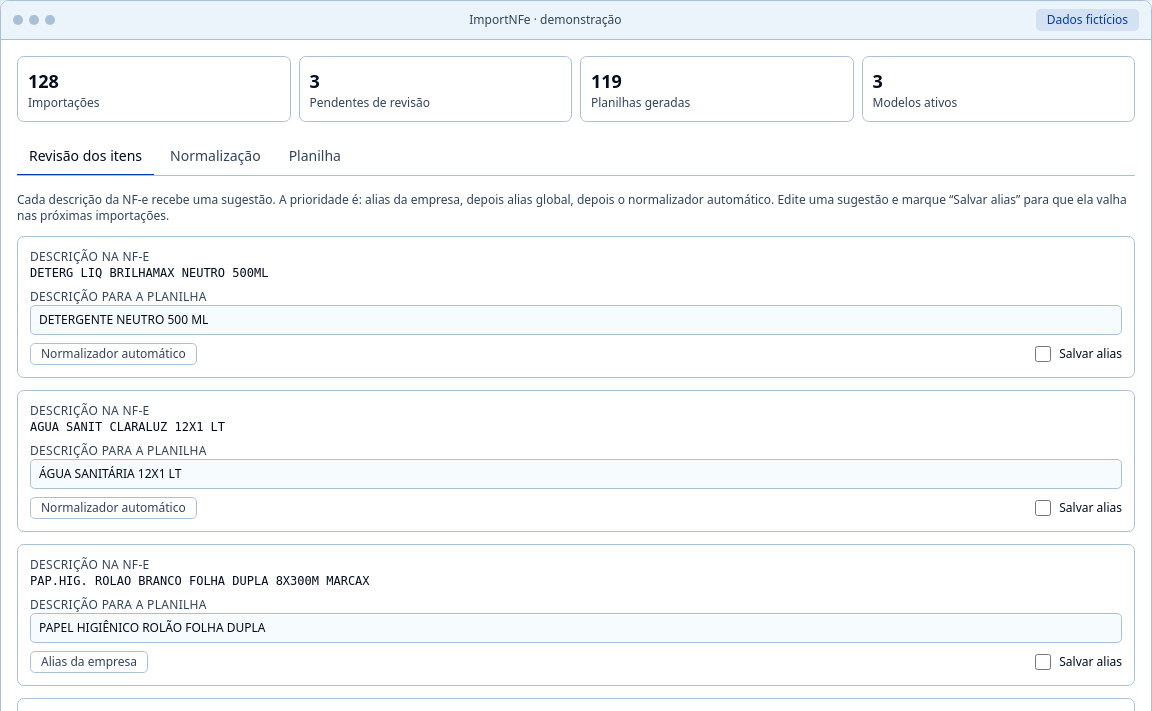
Test case: <ImportNfeDemo /> › adiciona uma regra na aba Normalização
Step 1. Click the tab "Normalização" → (215, 157), box [158,138,273,176]
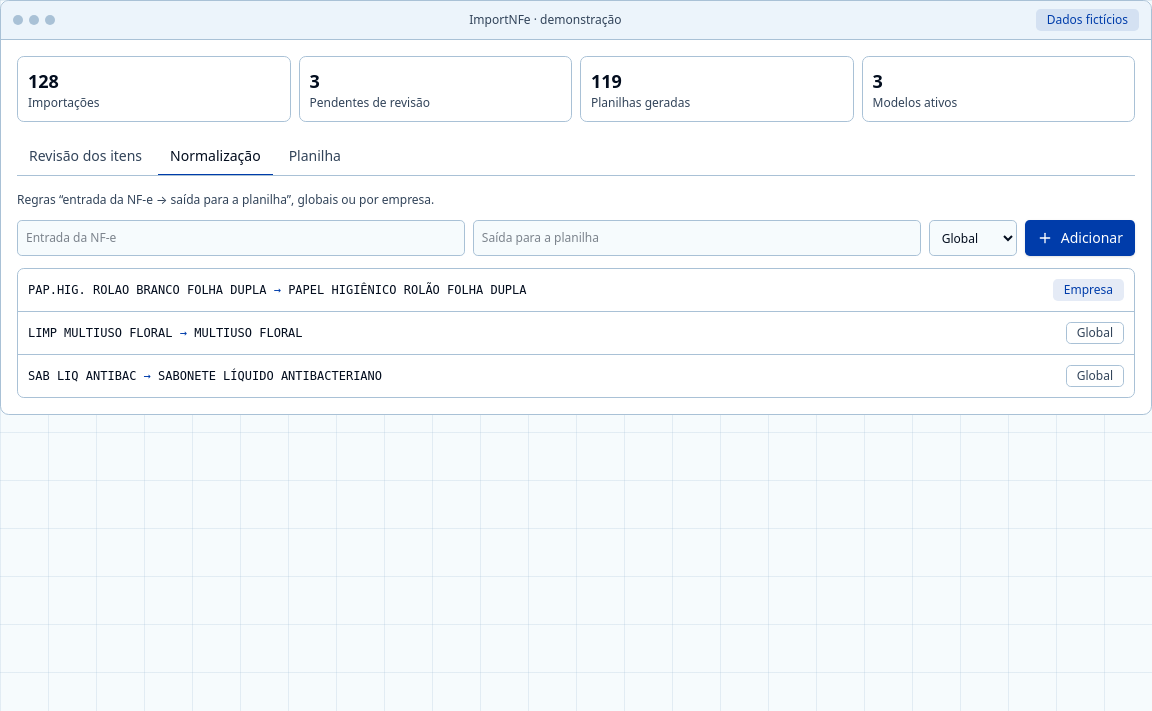
Step 2. Type "ESPONJA X" into the field labelled "Entrada da NF-e" → (241, 238), box [17,220,465,256]
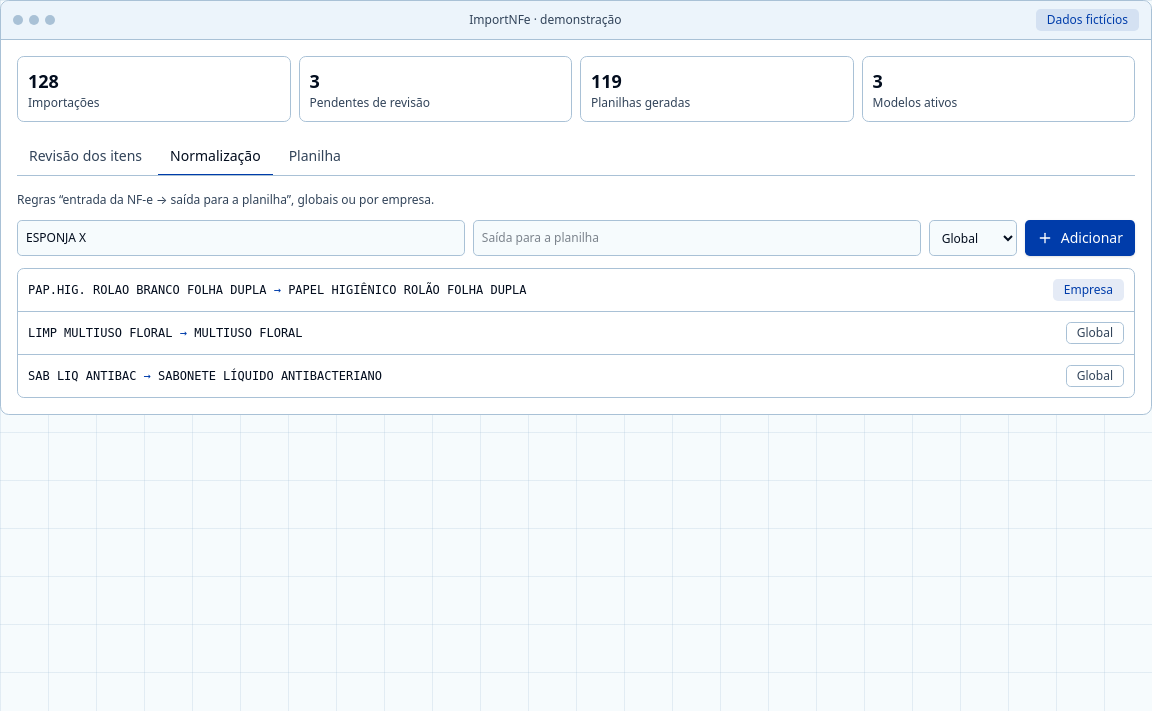
Step 3. Type "esponja" into the field labelled "Saída para a planilha" → (697, 238), box [473,220,921,256]
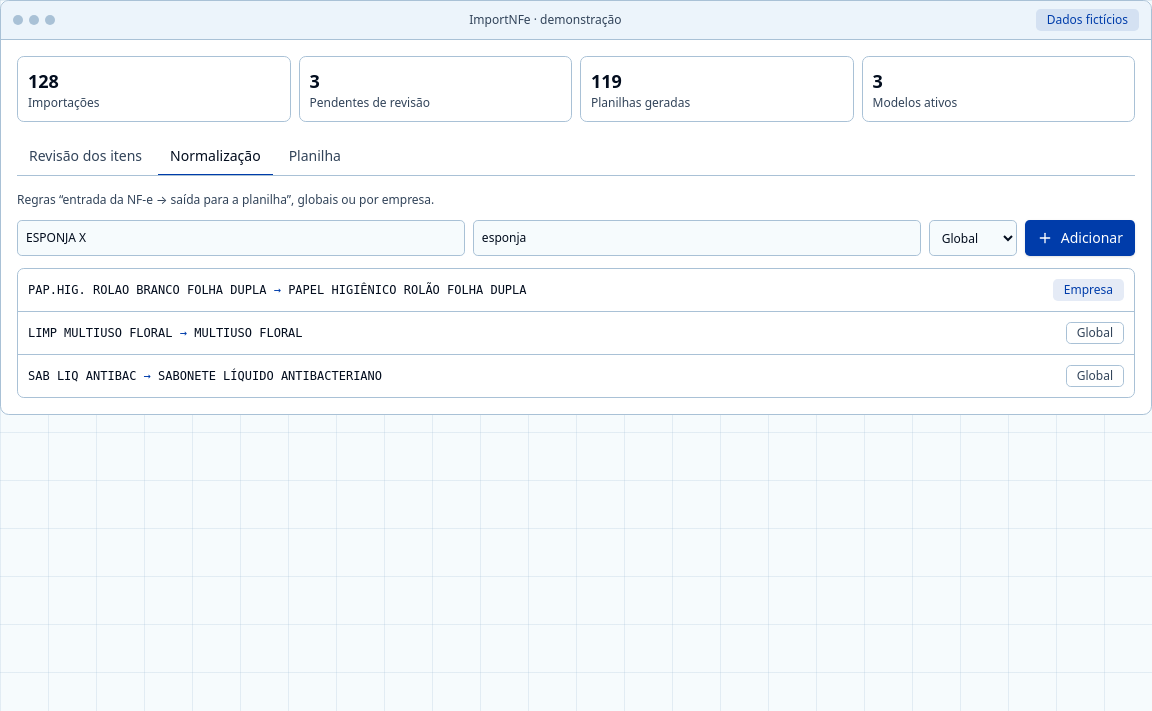
Step 4. Click the button "Adicionar" → (1080, 238), box [1025,220,1135,256]
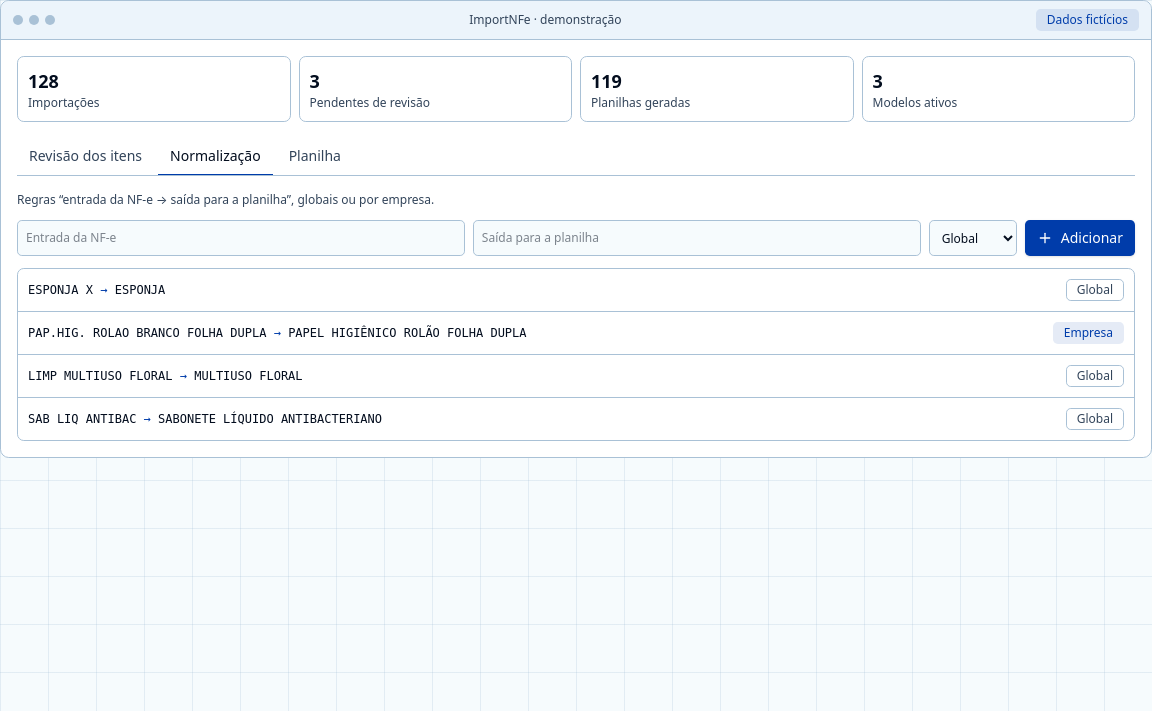
Check: the text "ESPONJA X → ESPONJA" is shown, box [28,282,165,298]
